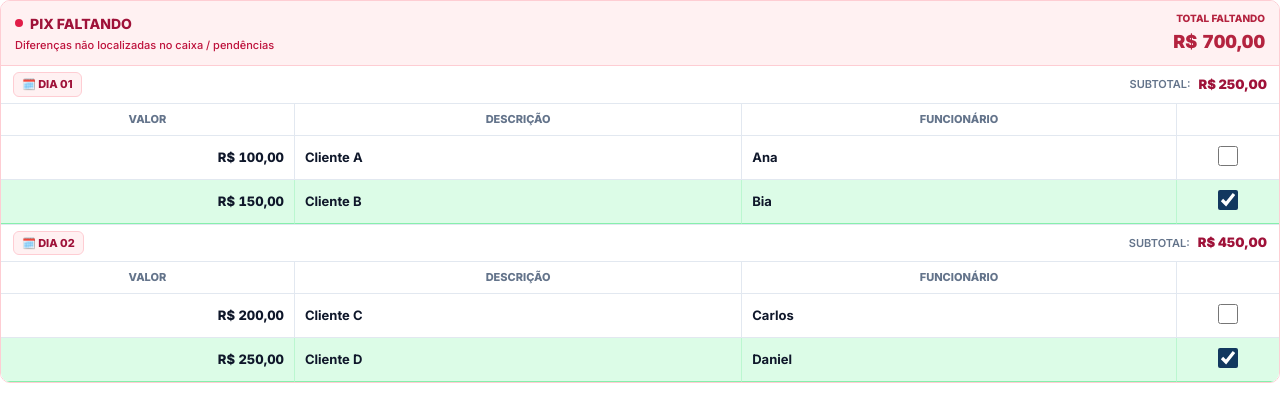
Test: 2. Ajuste do Menu de Contexto (Individual vs. Múltiplo) › item único conferido: NÃO exibe "Marcar como conferido", mas mantém "Editar" e "Excluir"
The width and height of the screenshot is (1280, 400).
Right-click the row with id "report-row-item-2" at (640, 202), box [1, 180, 1279, 224]
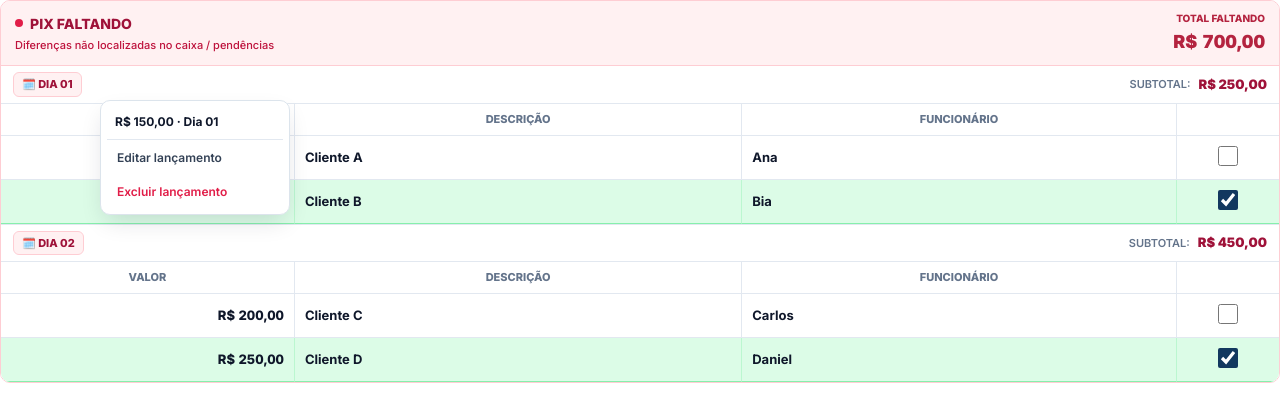
Expected: the button "Editar lançamento" is shown, [107, 142, 283, 174]
Expected: the button "Excluir lançamento" is shown, [107, 176, 283, 208]
